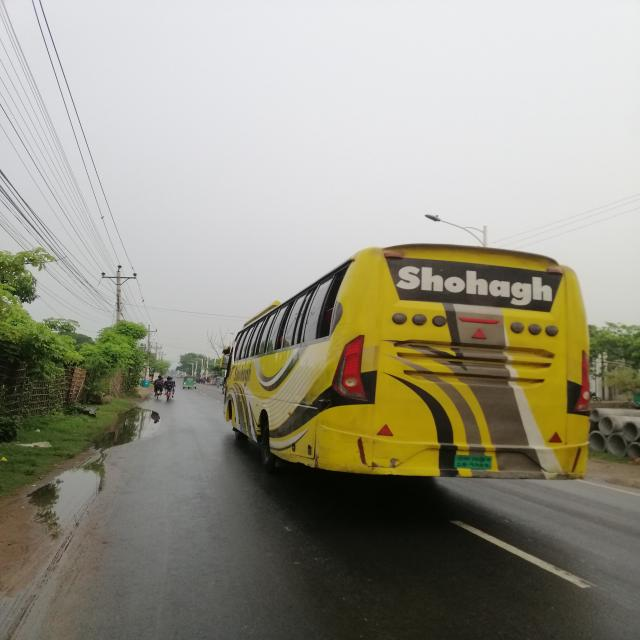Bus: (219, 244, 626, 484)
